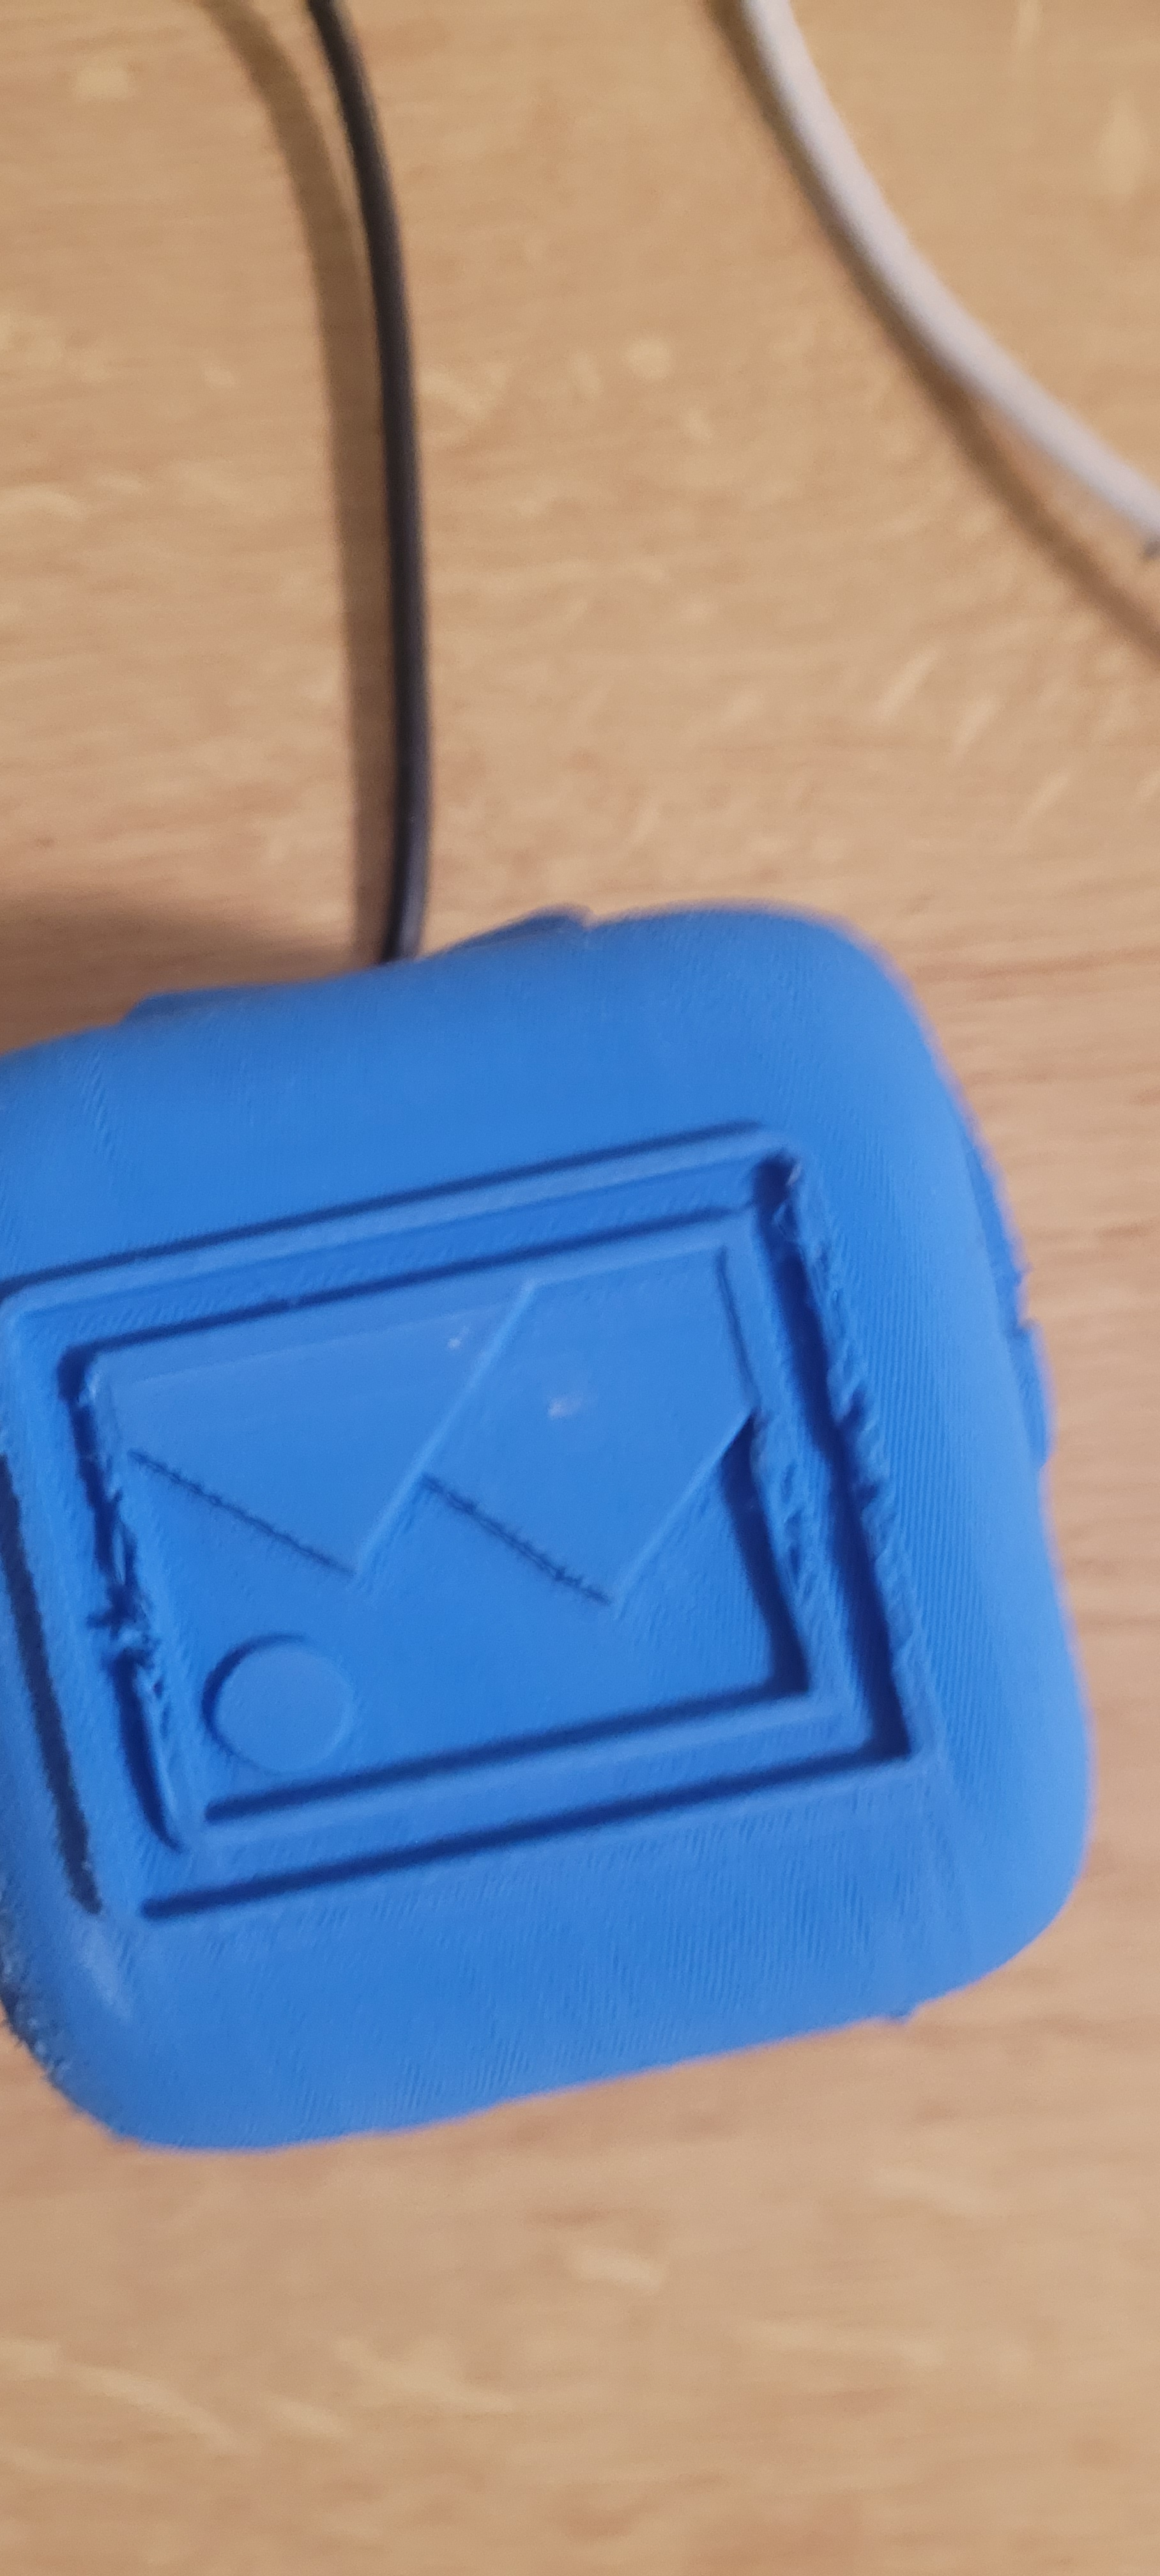Story: (33, 1050, 884, 2039)
